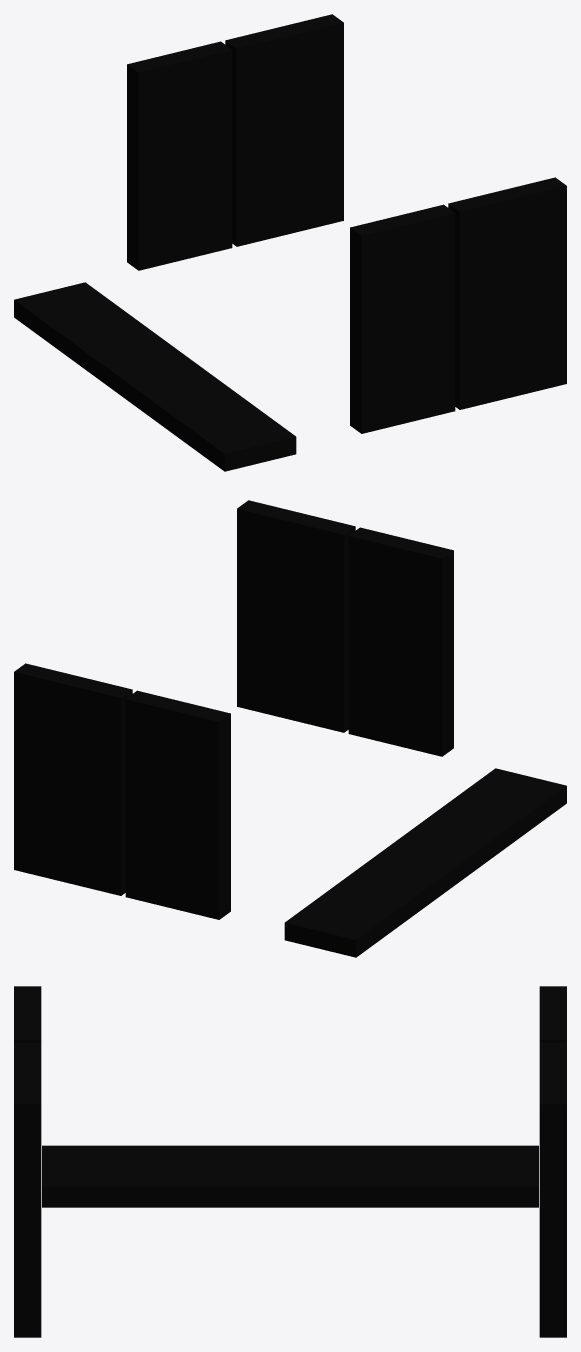
Rendered from bench_leggings_4.obj.
The picture shows the model from 3 angles, top to bottom: view 1: azimuth 30°, elevation 25°; view 2: azimuth 150°, elevation 25°; view 3: azimuth 270°, elevation 25°; orthographic projection. The views are drawn at different scales.
Visible parts, largest first — view 1: geometry; view 2: geometry; view 3: geometry.
Boxes of the visible parts, x1,y1,x2,y2 form: geometry: (14, 14, 566, 471); geometry: (14, 500, 566, 957); geometry: (14, 986, 566, 1337).
Bounding box in the file's own units: 0.4039 × 0.25 × 0.4967.
